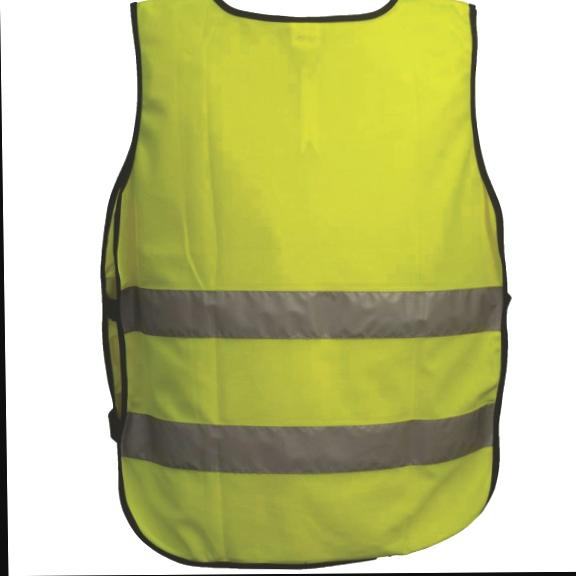safety_vest: (96, 0, 517, 570)
